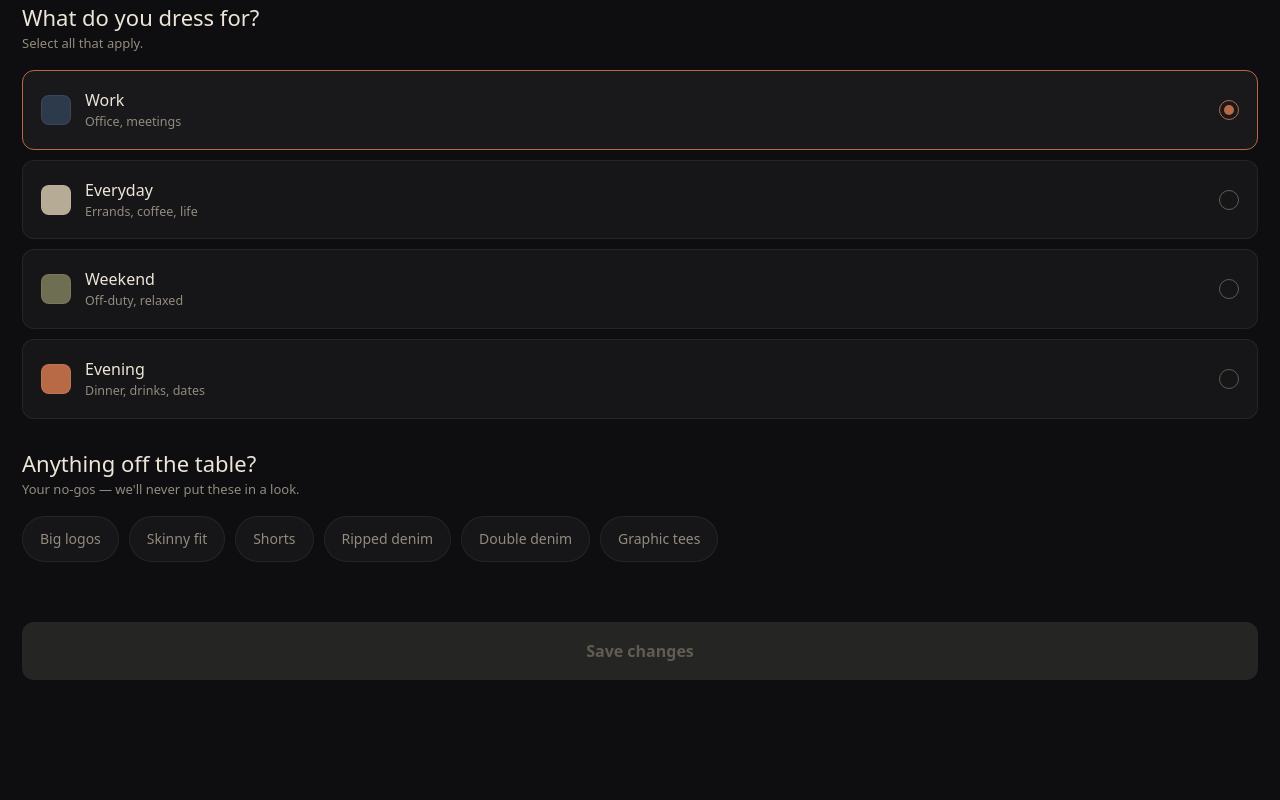
Test: editing while a save is in flight does not leave 'Saved' beside different answers
(page scrolled)
What coordinates should you click on to do the following:
click the button "Shorts"
I would click on:
 (274, 539)
Its box is x1=235 y1=516 x2=314 y2=562.
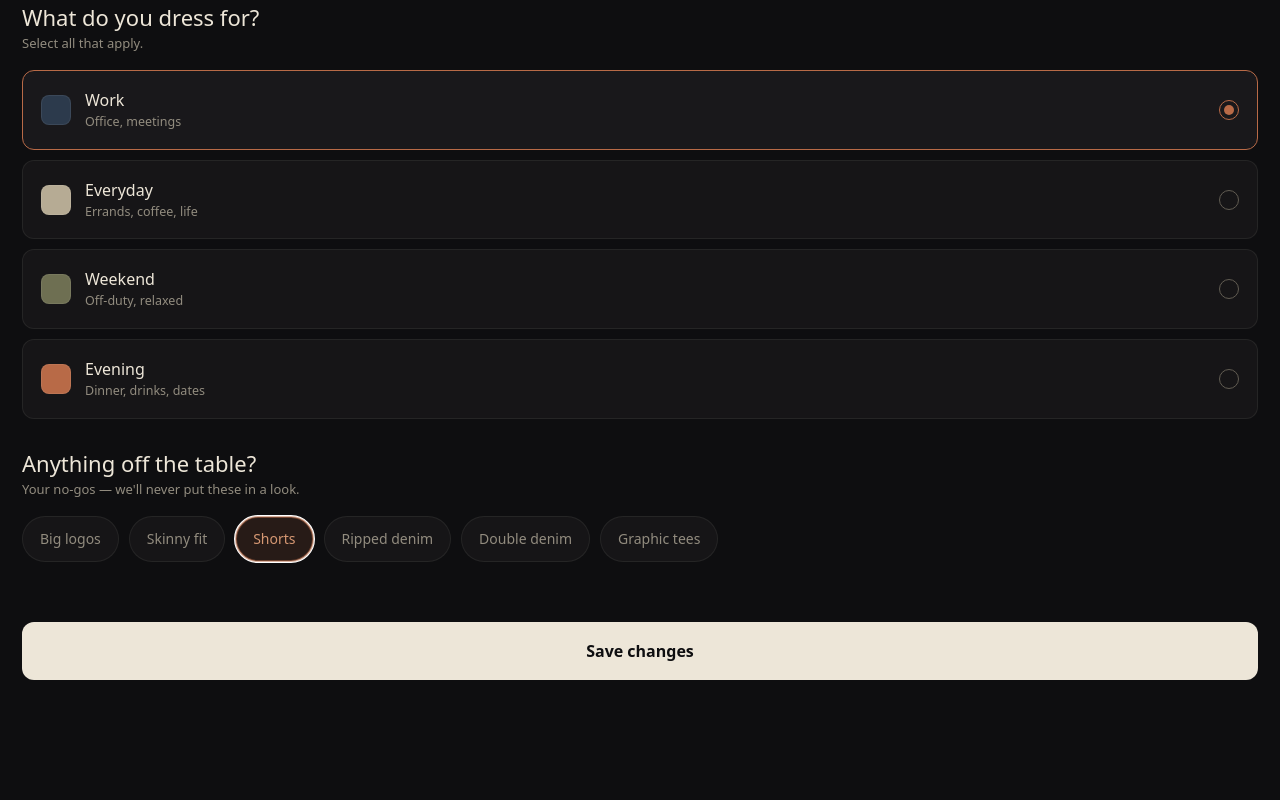
What coordinates should you click on to do the following:
click the button "Save changes"
I would click on:
 (640, 651)
Its box is x1=22 y1=622 x2=1258 y2=680.
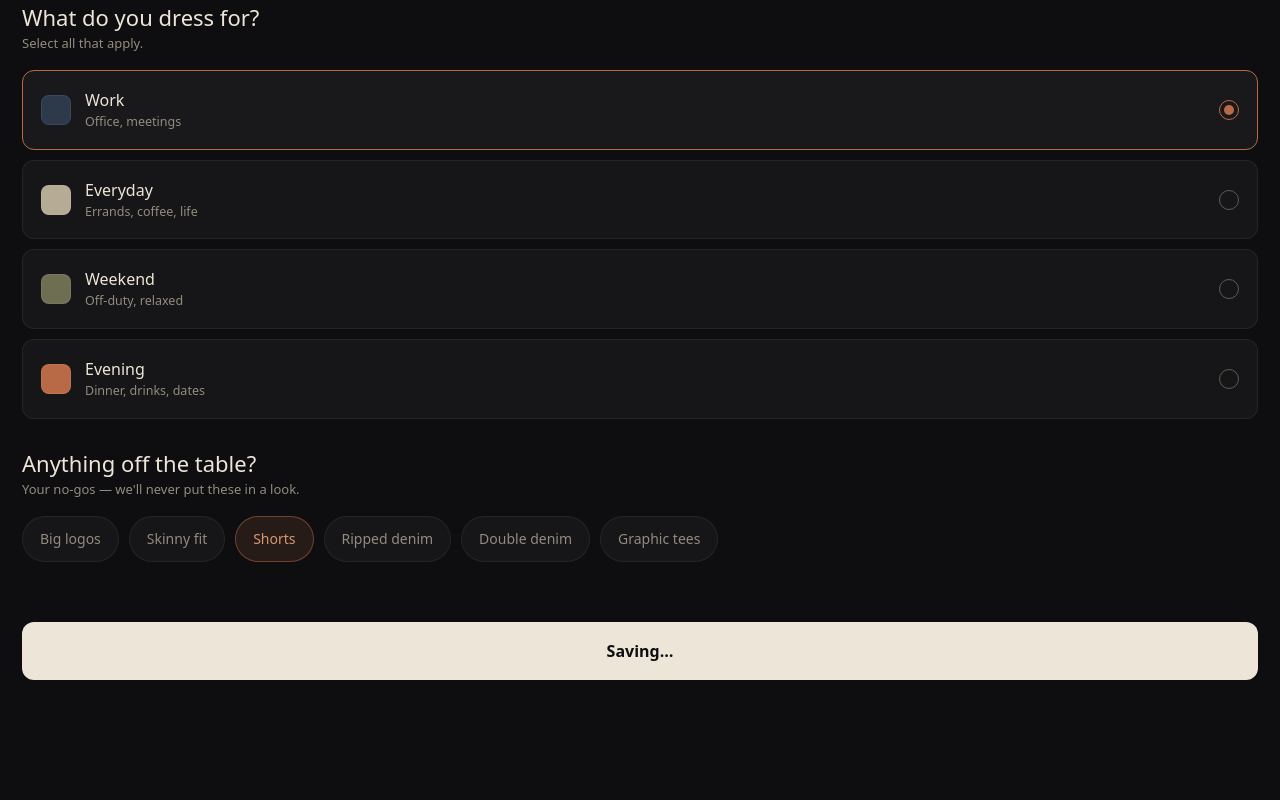
What coordinates should you click on to do the following:
click the button "Graphic tees"
I would click on:
 (659, 539)
Its box is x1=600 y1=516 x2=718 y2=562.
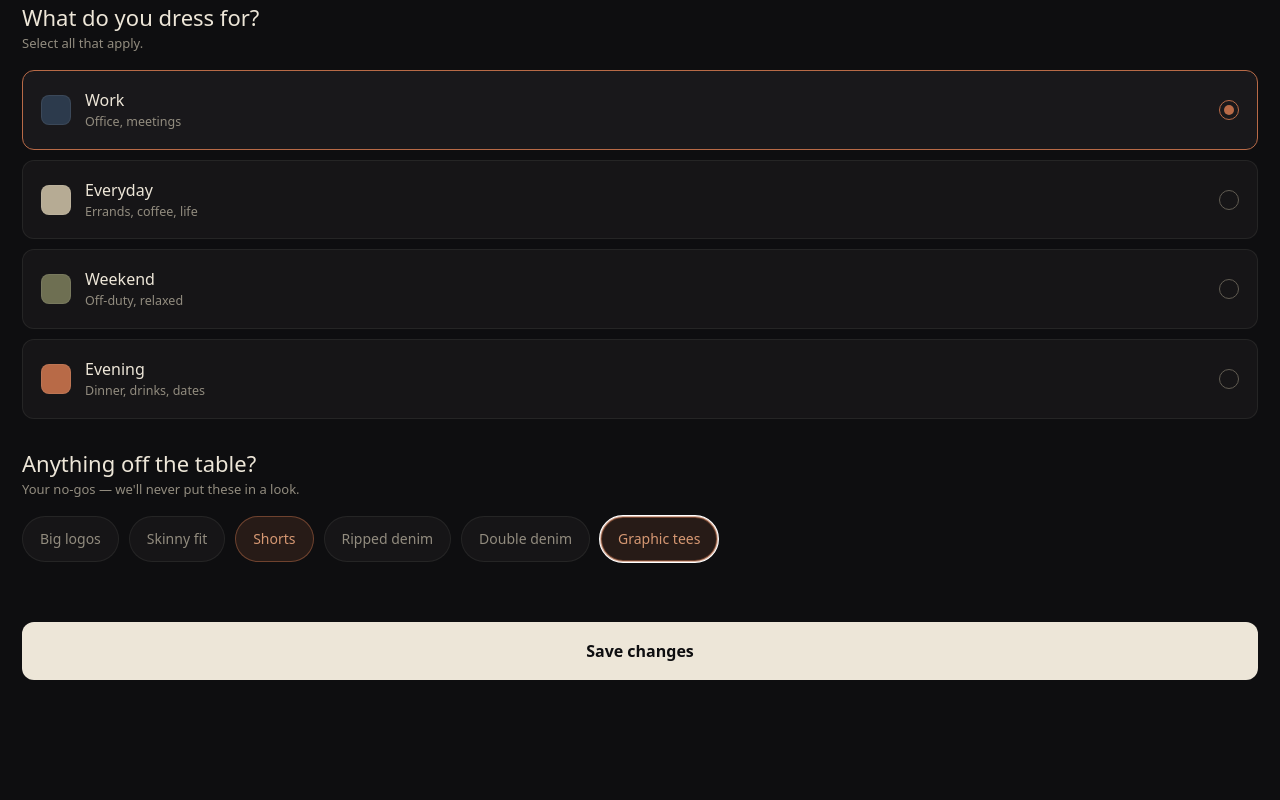
Check: the button "Save changes" is enabled, box x1=22 y1=622 x2=1258 y2=680
